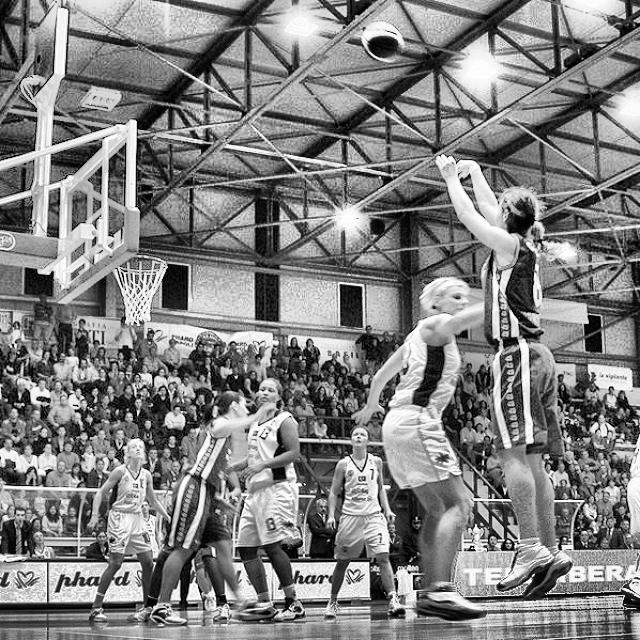Basketball: (362, 21, 402, 61)
